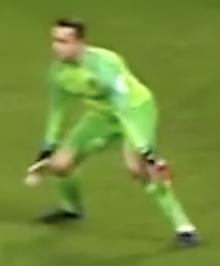goalkeeper: (15, 0, 220, 261)
